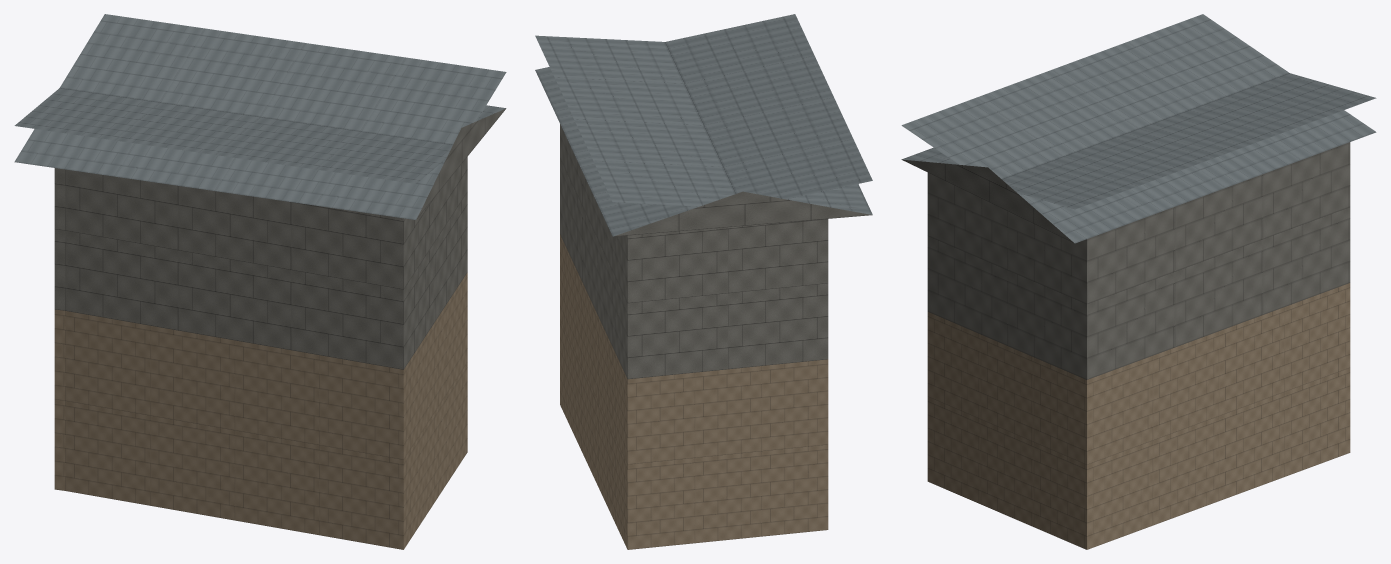
File: bld_c23_15_572.gltf
3 views of the same model, side by side, from view 1: azimuth 30°, elevation 25°; view 2: azimuth 150°, elevation 25°; view 3: azimuth 270°, elevation 25° (orthographic). The views are drawn at different scales.
Visible parts, largest first — view 1: bld_c23_15_572; view 2: bld_c23_15_572; view 3: bld_c23_15_572.
Boxes of the visible parts, x1=… form: bld_c23_15_572: x1=14, y1=14, x2=506, y2=549; bld_c23_15_572: x1=535, y1=14, x2=872, y2=549; bld_c23_15_572: x1=901, y1=14, x2=1376, y2=549.
Bounding box in the file's own units: 12.26 × 10.4 × 12.61.
4 materials, 4 textured.
